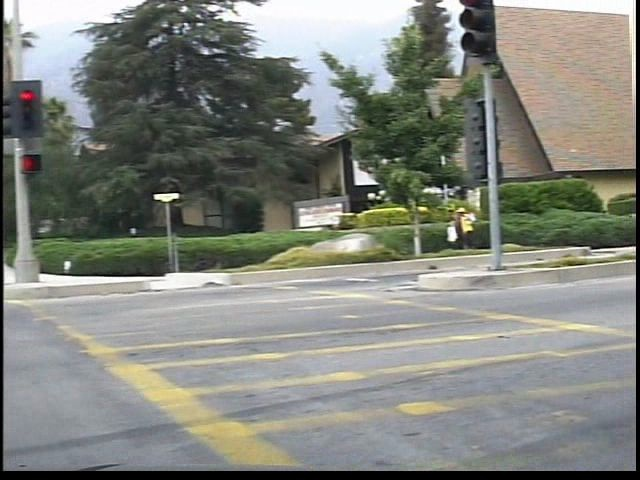person: (466, 199, 490, 254)
